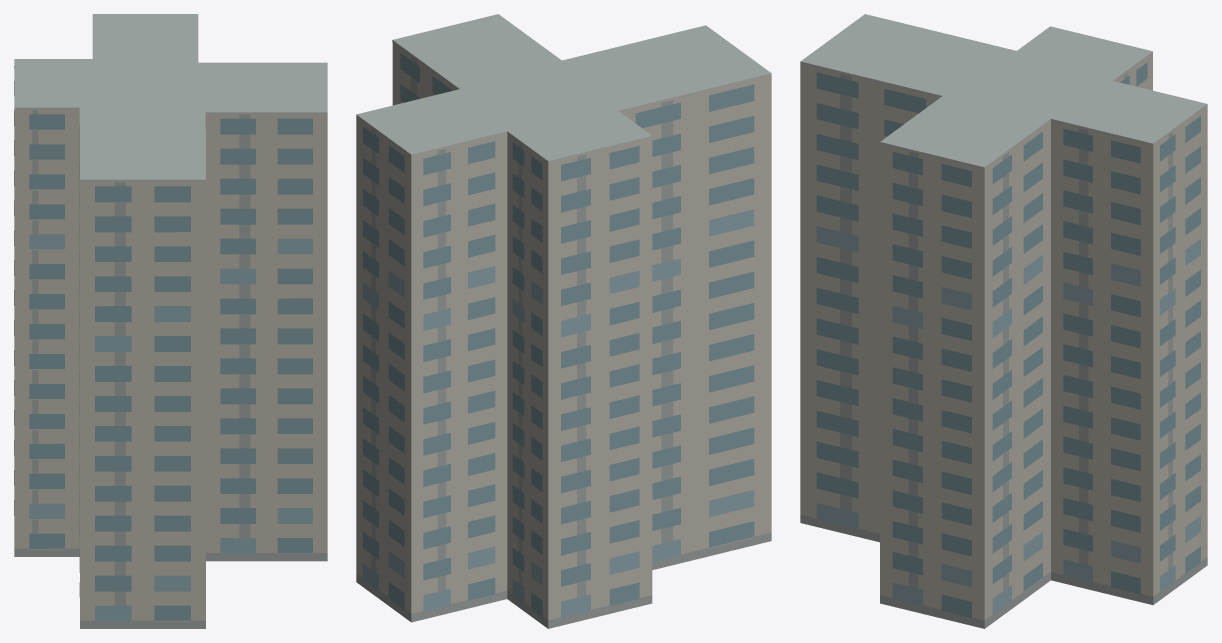
Rendered from residential-7963c81f-e50a-4039-a2e0-1171b7b603b9.glb.
The picture shows the model from 3 angles, left to right: view 1: azimuth 30°, elevation 25°; view 2: azimuth 150°, elevation 25°; view 3: azimuth 270°, elevation 25°; orthographic projection. The views are drawn at different scales.
Visible parts, largest first — view 1: residential-7963c81f-e50a-4039-a2e0-1171b7b603b9.tmp; view 2: residential-7963c81f-e50a-4039-a2e0-1171b7b603b9.tmp; view 3: residential-7963c81f-e50a-4039-a2e0-1171b7b603b9.tmp.
Boxes of the visible parts, x1,y1,x2,y2 form: residential-7963c81f-e50a-4039-a2e0-1171b7b603b9.tmp: (14, 14, 327, 628); residential-7963c81f-e50a-4039-a2e0-1171b7b603b9.tmp: (356, 14, 771, 628); residential-7963c81f-e50a-4039-a2e0-1171b7b603b9.tmp: (800, 14, 1207, 628).
Size of the model in its own units: 32.08 by 45 by 35.98.
